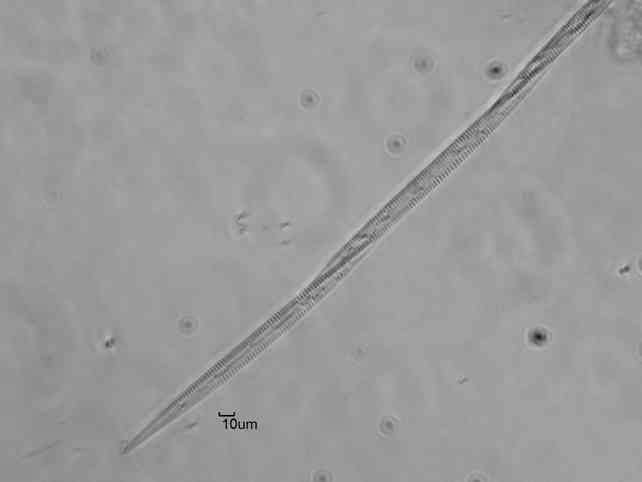trichodesmium_erythraeum: (119, 0, 615, 456)
